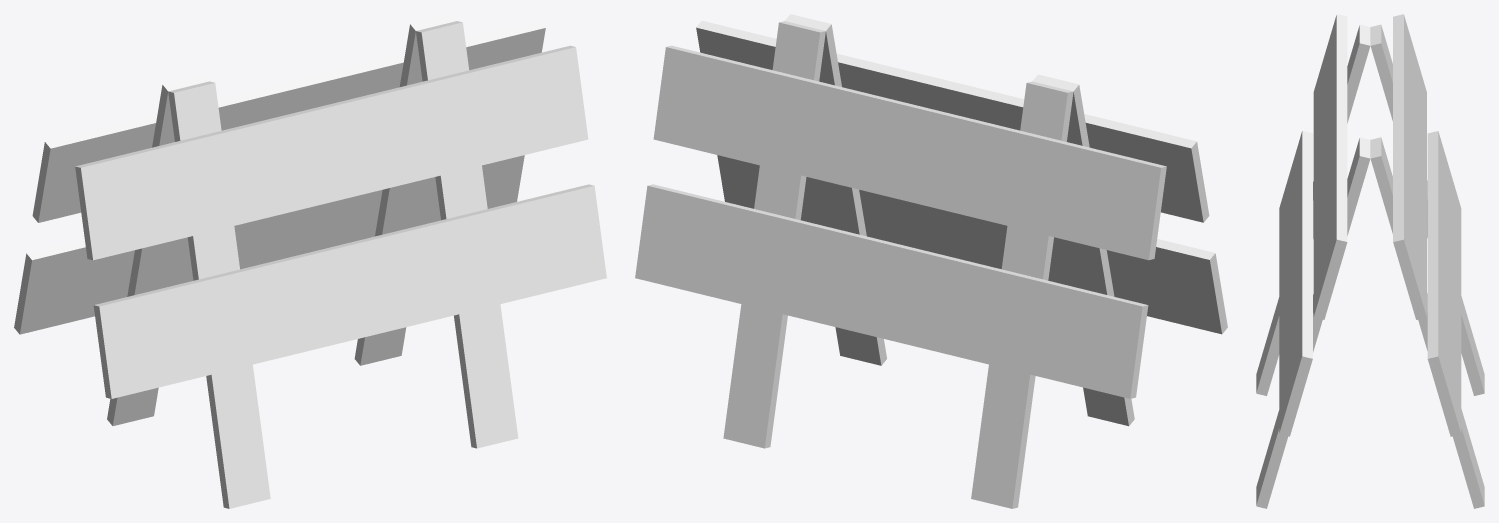
File: road-barrier.obj
3 views of the same model, side by side, from view 1: azimuth 30°, elevation 25°; view 2: azimuth 150°, elevation 25°; view 3: azimuth 270°, elevation 25° (orthographic). The views are drawn at different scales.
Parts seen in each view (by area): view 1: Plane.002_Plane.003; view 2: Plane.002_Plane.003; view 3: Plane.002_Plane.003.
Part boxes in pixels (x1,y1,x2,y2): Plane.002_Plane.003: (14,14,606,508); Plane.002_Plane.003: (635,14,1227,508); Plane.002_Plane.003: (1256,14,1484,508).
Bounding box in the file's own units: 3 × 2.19 × 1.29.
Materials: 1 (1 with a texture image).
